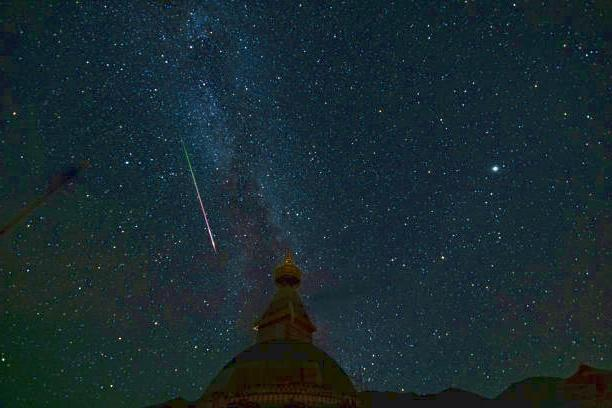meteorite: (184, 161, 220, 253)
